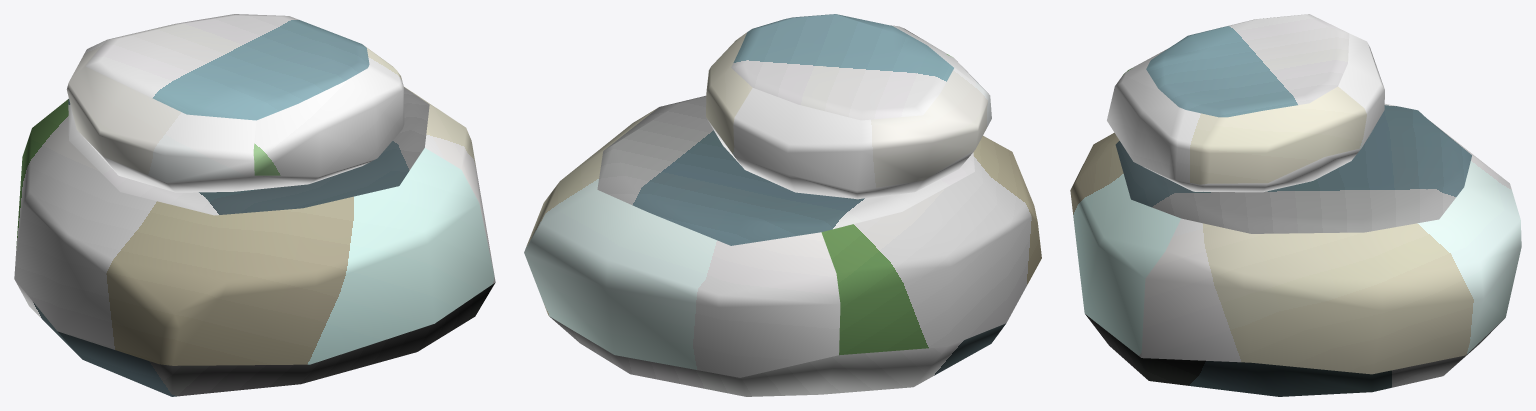
Rendered from P_StoneCandleLight.glb.
3 renders of one model, left to right at view 1: azimuth 30°, elevation 25°; view 2: azimuth 150°, elevation 25°; view 3: azimuth 270°, elevation 25°, orthographic. The views are drawn at different scales.
Parts seen in each view (by area): view 1: P_StoneCandleLight; view 2: P_StoneCandleLight; view 3: P_StoneCandleLight.
Part boxes in pixels (x1,y1,x2,y2): P_StoneCandleLight: (14,14,495,396); P_StoneCandleLight: (524,14,1041,396); P_StoneCandleLight: (1070,14,1521,396).
Bounding box in the file's own units: 0.4942 × 0.2986 × 0.5082.
1 material, 1 textured.
